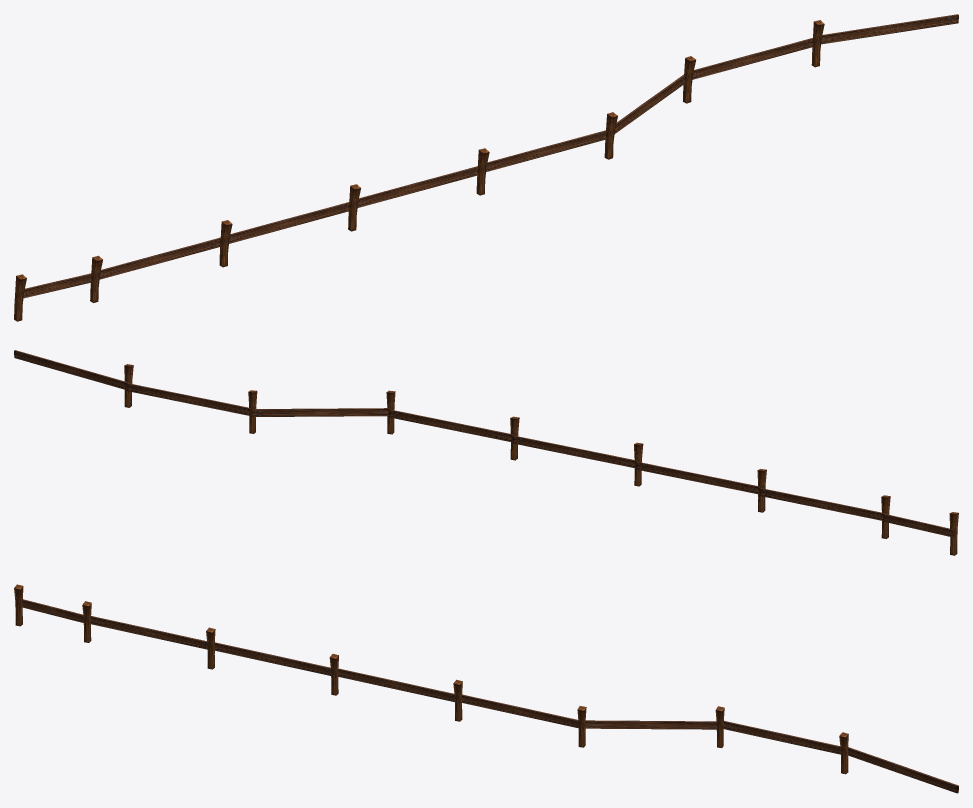
Rendered from EKH_ENTRANCE_PS_EN_FENCE_4884__GX.fbx.
3 views of the same model, one above another, from view 1: azimuth 30°, elevation 25°; view 2: azimuth 150°, elevation 25°; view 3: azimuth 330°, elevation 25° (orthographic). The views are drawn at different scales.
Visible parts, largest first — view 1: EKH_ENTRANCE_PS_EN_FENCE_4884__GX; view 2: EKH_ENTRANCE_PS_EN_FENCE_4884__GX; view 3: EKH_ENTRANCE_PS_EN_FENCE_4884__GX.
Part boxes in pixels (bbox=[...]): EKH_ENTRANCE_PS_EN_FENCE_4884__GX: bbox=[14, 14, 958, 321]; EKH_ENTRANCE_PS_EN_FENCE_4884__GX: bbox=[14, 350, 958, 555]; EKH_ENTRANCE_PS_EN_FENCE_4884__GX: bbox=[14, 584, 958, 793].
Size of the model in its own units: 237152 by 10209 by 27836.
Materials: 3 (3 with a texture image).
